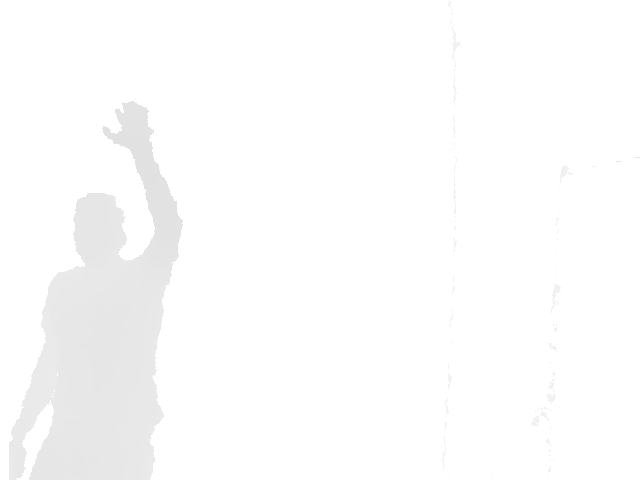hand: (101, 100, 156, 150)
head: (73, 192, 127, 262)
person: (10, 100, 183, 480)
